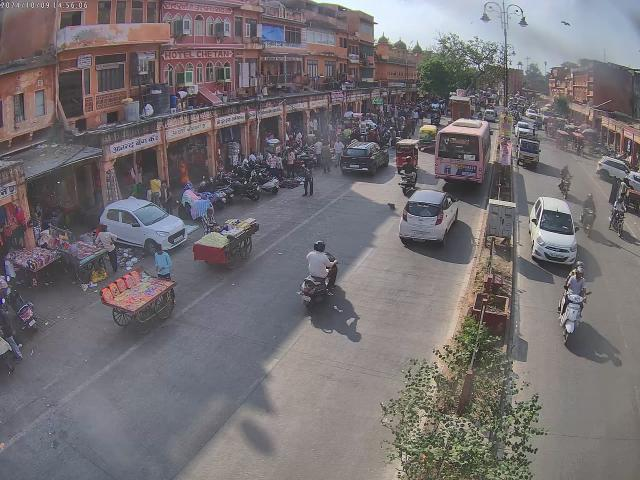auto: (394, 138, 420, 172)
bus: (433, 117, 491, 188)
car: (529, 196, 579, 266), (398, 189, 458, 247), (339, 142, 386, 176), (596, 156, 632, 181)
helmet: (312, 239, 328, 252), (574, 268, 584, 280), (406, 156, 414, 162), (586, 194, 594, 200), (616, 197, 622, 204), (563, 164, 568, 170)
license_plate: (550, 252, 564, 259), (413, 230, 428, 236), (455, 164, 463, 169), (350, 164, 360, 168)
lorry: (516, 128, 542, 166)
motorbike-rider: (607, 197, 628, 235), (556, 166, 572, 198)
person: (94, 225, 118, 272), (148, 176, 163, 202), (304, 159, 314, 197)
scooty: (0, 276, 38, 332)
scooty-rider: (296, 239, 340, 312), (556, 264, 590, 344), (581, 193, 597, 233), (399, 157, 417, 192)
vendor: (105, 244, 175, 332), (194, 207, 260, 272)
